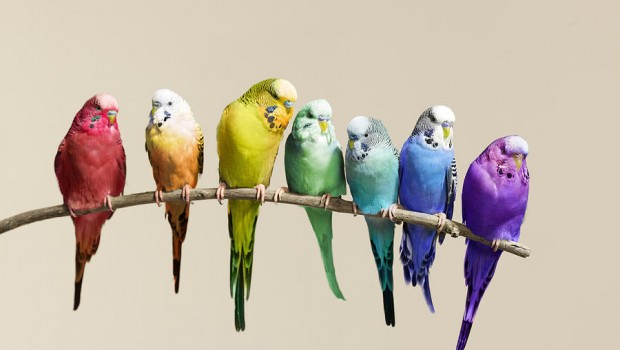budgie: (216, 74, 299, 330), (52, 93, 126, 313), (462, 134, 530, 345), (284, 96, 347, 304), (143, 86, 206, 292), (399, 102, 459, 313), (343, 112, 400, 330)
